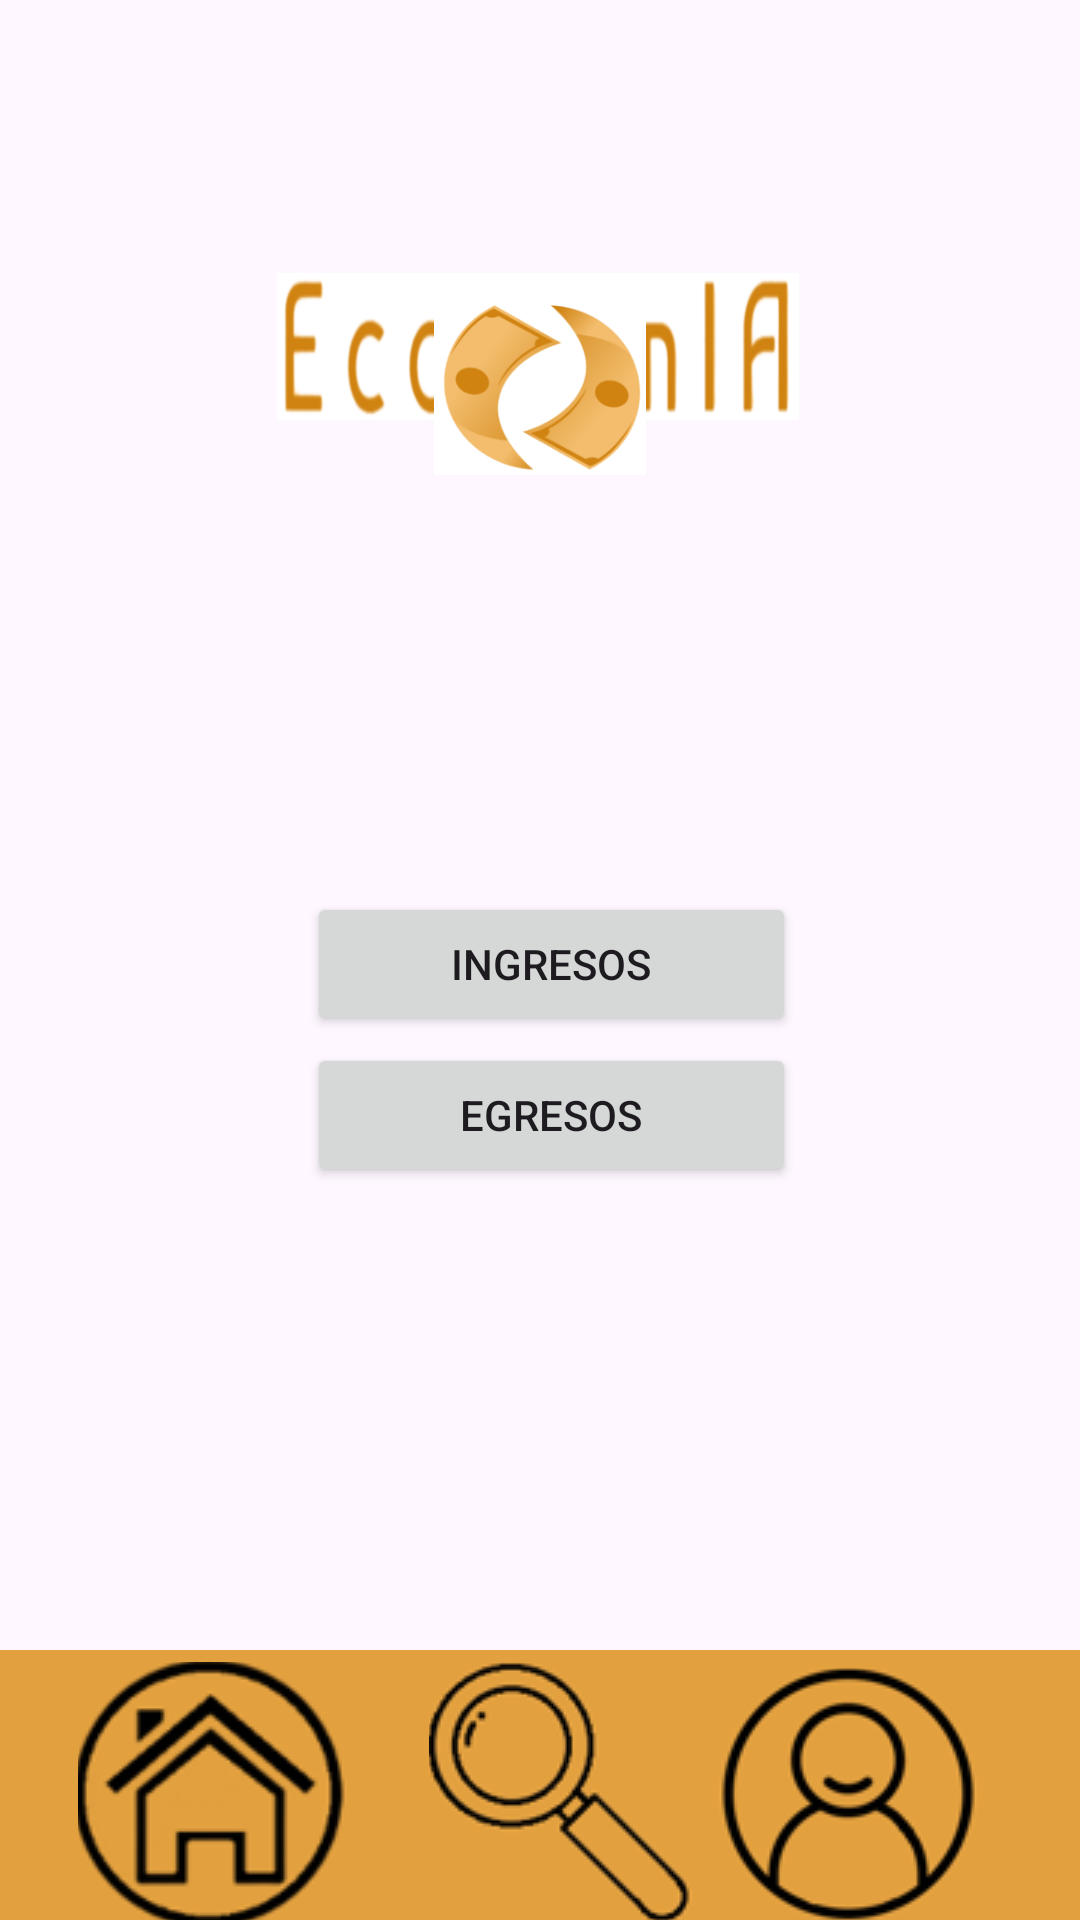

Point at icon controls on the screen. Image size 1080px x 1920px, points as [x,y].
home: [211,1791]
lupa: [559,1791]
perfil: [848,1794]
